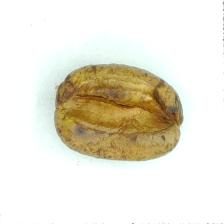NG: (68, 71, 174, 144)
